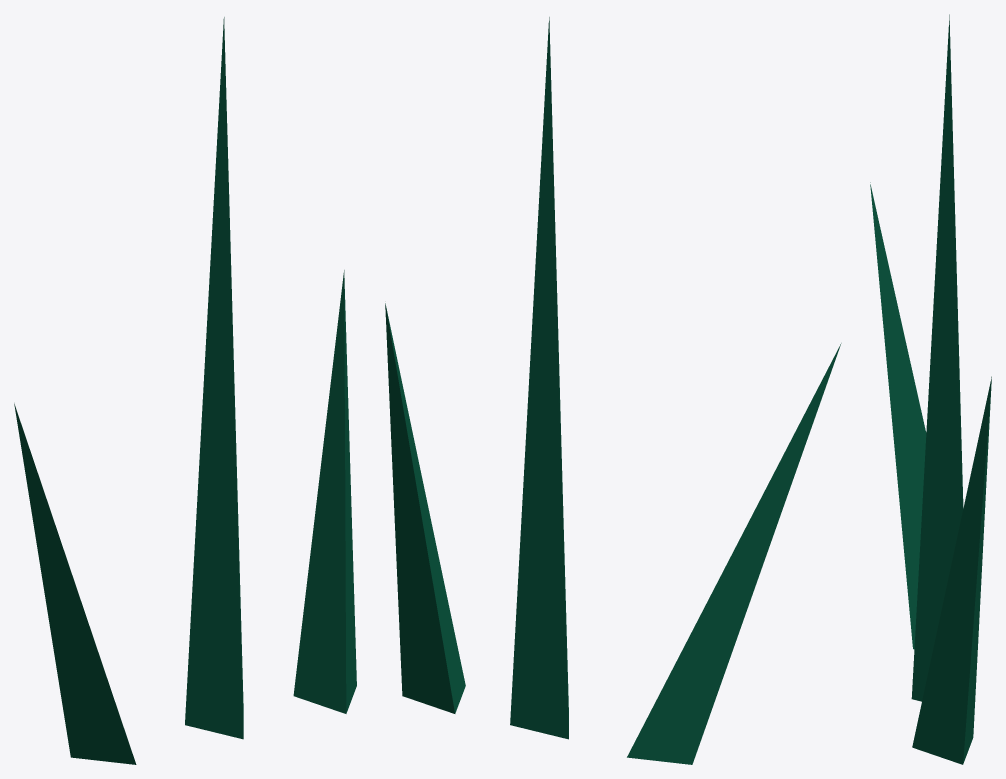
File: world_1_grass_2.dae
3 renders of one model, left to right at view 1: azimuth 30°, elevation 25°; view 2: azimuth 150°, elevation 25°; view 3: azimuth 270°, elevation 25°, orthographic. The views are drawn at different scales.
Visible parts, largest first — view 1: grass_2; view 2: grass_2; view 3: grass_2.
Part boxes in pixels (x1,y1,x2,y2): grass_2: (14,17,356,764); grass_2: (385,17,841,764); grass_2: (870,14,991,764).
Bounding box in the file's own units: 0.2895 × 0.0806 × 0.5.
